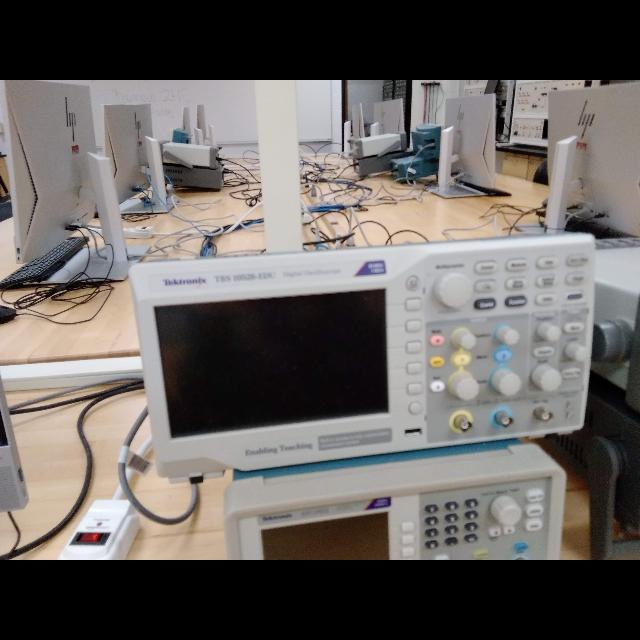Digital-Oscilloscope: (130, 234, 589, 475)
